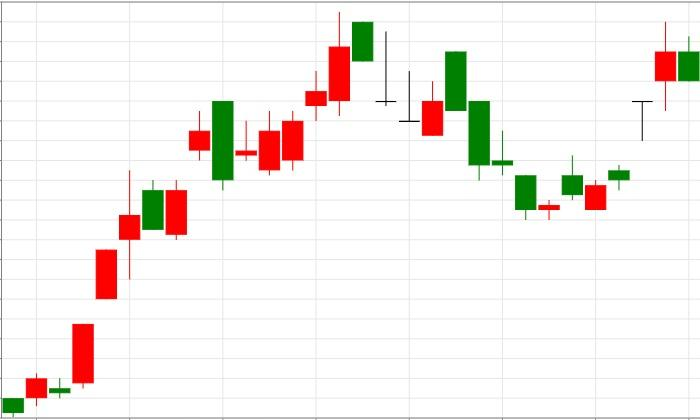three_white_soldiers_rise: (2, 169, 141, 417)
